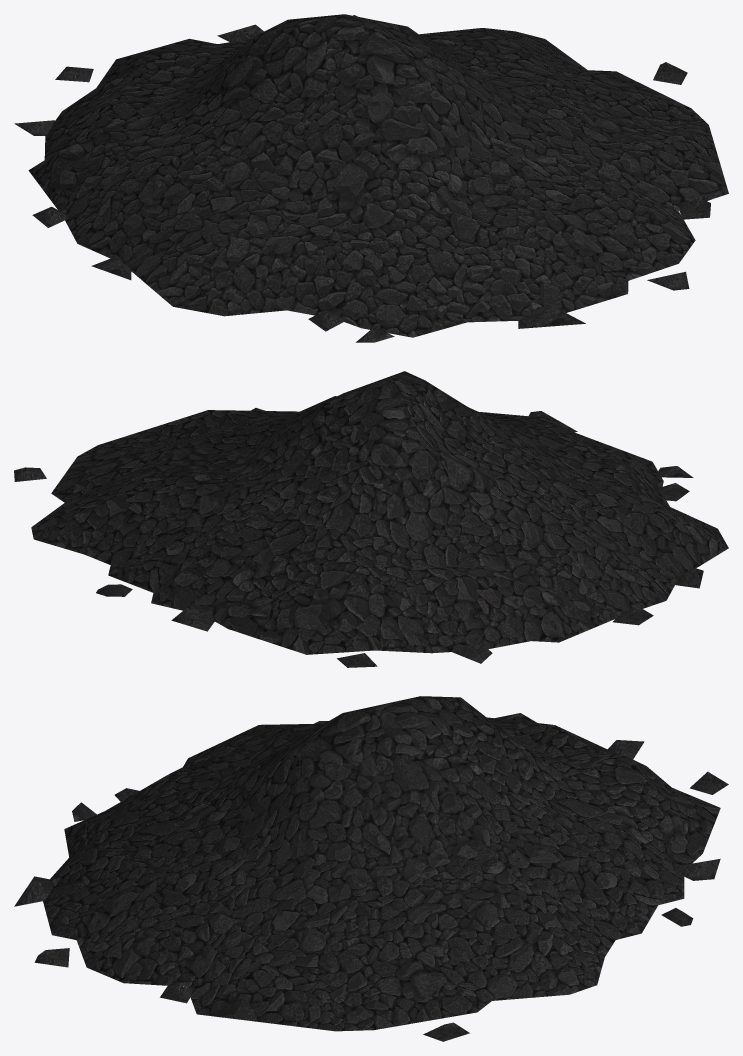
The model's file is Rock_Dunes.fbx.
The picture shows the model from 3 angles, top to bottom: view 1: azimuth 30°, elevation 25°; view 2: azimuth 150°, elevation 25°; view 3: azimuth 270°, elevation 25°; orthographic projection. The views are drawn at different scales.
Visible parts, largest first — view 1: Rock_Dunes; view 2: Rock_Dunes; view 3: Rock_Dunes.
Part boxes in pixels (<box>): Rock_Dunes: <box>14,14,728,342</box>; Rock_Dunes: <box>14,371,728,667</box>; Rock_Dunes: <box>14,696,728,1041</box>.
Bounding box in the file's own units: 864 × 224 × 818.
